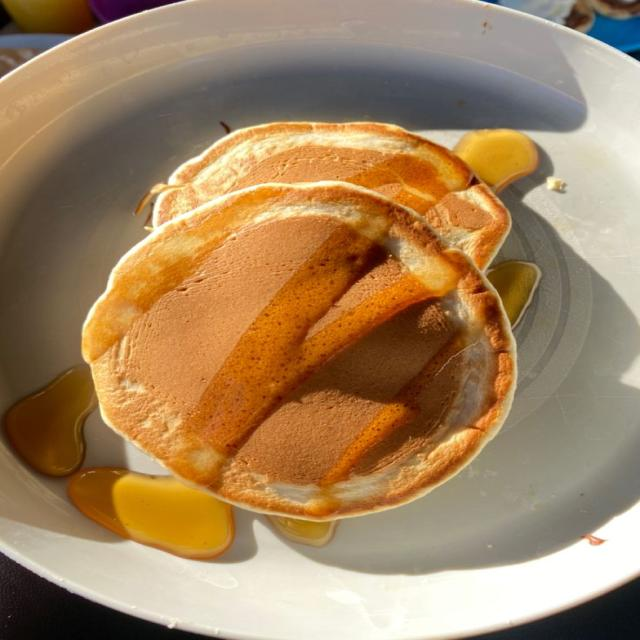pancake: (83, 183, 515, 519), (154, 122, 510, 268), (587, 0, 639, 19)
